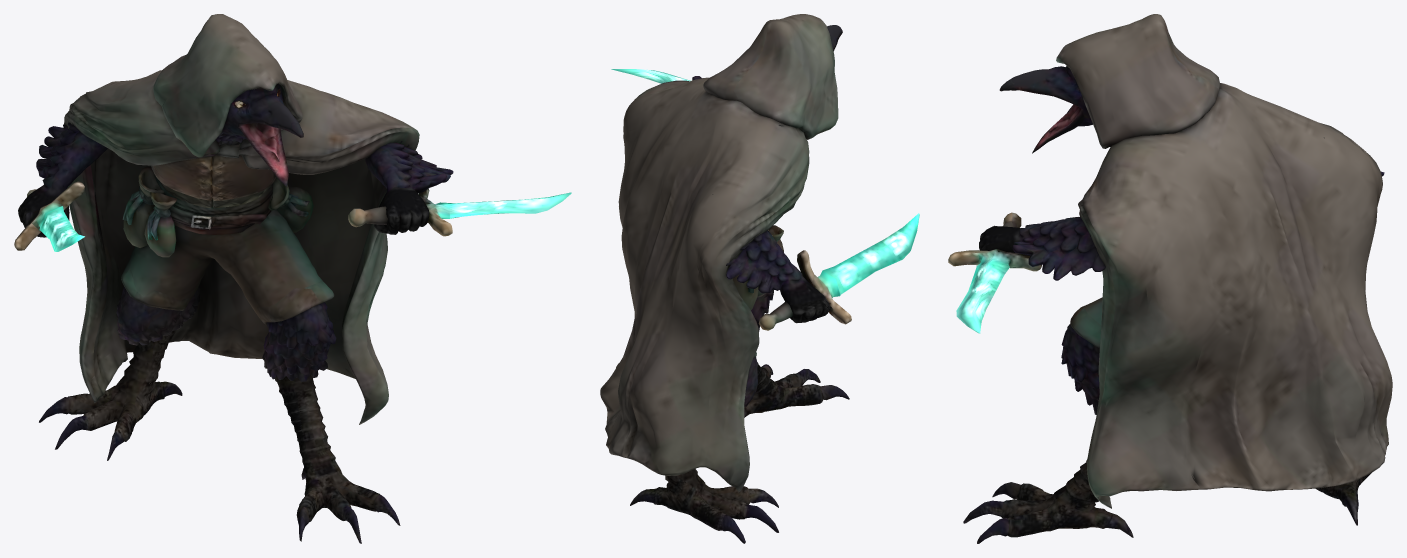
File: MZ4250 - Kenku_rogue 2025.glb
3 views of the same model, side by side, from view 1: azimuth 30°, elevation 25°; view 2: azimuth 150°, elevation 25°; view 3: azimuth 270°, elevation 25° (orthographic). The views are drawn at different scales.
Visible parts, largest first — view 1: Body.002; view 2: Body.002; view 3: Body.002.
Part boxes in pixels (box(x1,y1,x2,y2)): Body.002: box(14, 14, 571, 543); Body.002: box(600, 14, 919, 543); Body.002: box(948, 14, 1392, 543).
Size of the model in its own units: 74.82 by 81.12 by 67.31.
Materials: 3 (3 with a texture image).
